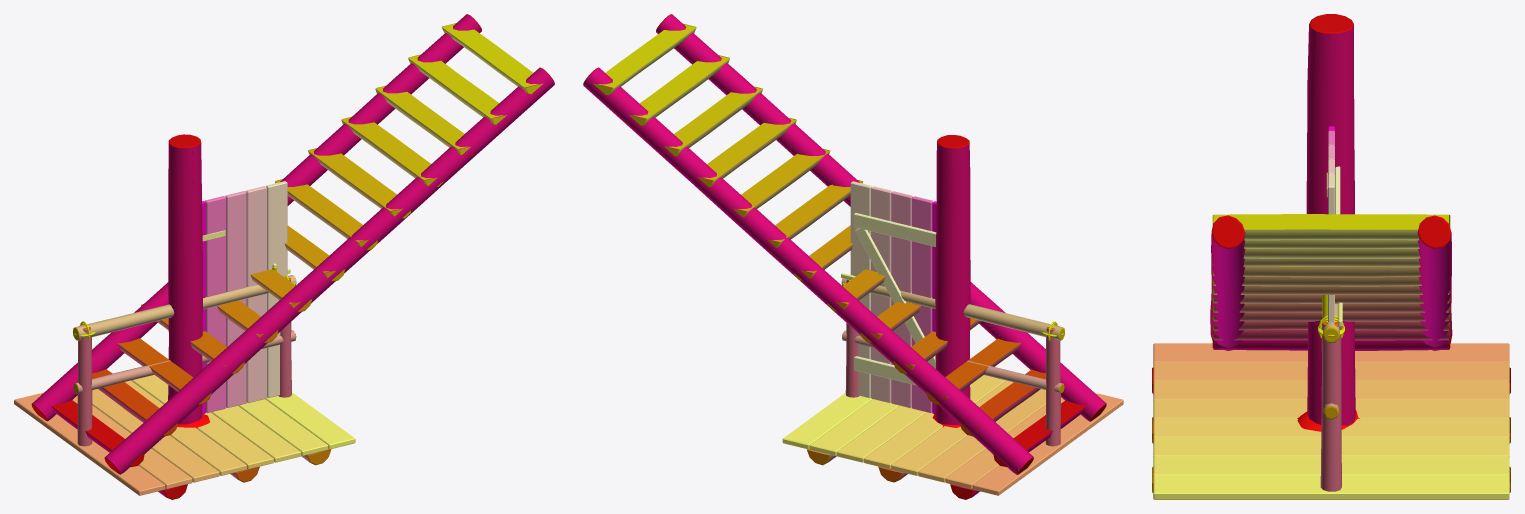
File: misc.glb
3 renders of one model, left to right at view 1: azimuth 30°, elevation 25°; view 2: azimuth 150°, elevation 25°; view 3: azimuth 270°, elevation 25°, orthographic. The views are drawn at different scales.
Parts seen in each view (by area): view 1: stairs, floor, door_leaf, pillar, railing; view 2: stairs, floor, door_leaf, pillar, railing; view 3: floor, stairs, pillar, railing, door_leaf.
Part boxes in pixels (x1,y1,x2,y2): stairs: [31, 14, 554, 474]; floor: [14, 375, 355, 499]; door_leaf: [193, 181, 290, 413]; pillar: [168, 134, 209, 428]; railing: [73, 274, 296, 446]; stairs: [583, 14, 1106, 474]; floor: [782, 375, 1123, 499]; door_leaf: [841, 181, 936, 414]; pillar: [932, 135, 970, 427]; railing: [841, 275, 1064, 446]; floor: [1152, 343, 1510, 499]; stairs: [1210, 214, 1452, 350]; pillar: [1297, 14, 1359, 431]; railing: [1318, 304, 1344, 491]; door_leaf: [1322, 126, 1342, 326].
Size of the model in its own units: 4.1 by 2.78 by 2.01.
